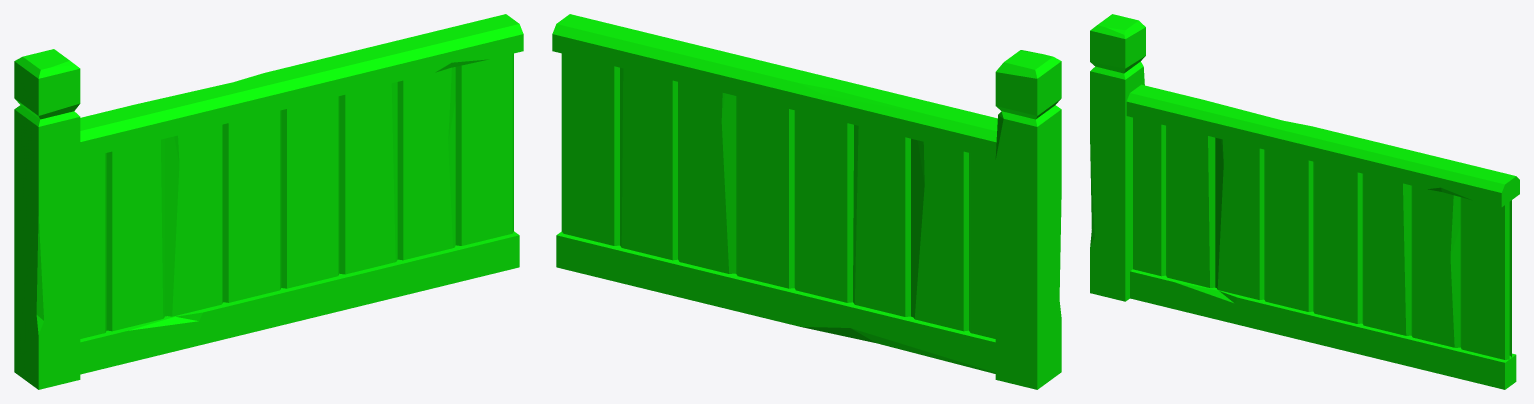
File: SM_Railing_Wood_Post_A_2m.fbx
3 renders of one model, left to right at view 1: azimuth 30°, elevation 25°; view 2: azimuth 150°, elevation 25°; view 3: azimuth 330°, elevation 25°, orthographic. The views are drawn at different scales.
Visible parts, largest first — view 1: railing-wood-post-a-2m; view 2: railing-wood-post-a-2m; view 3: railing-wood-post-a-2m.
Boxes of the visible parts, left/top/right/bottom form: railing-wood-post-a-2m: left=14, top=14, right=523, bottom=389; railing-wood-post-a-2m: left=552, top=14, right=1061, bottom=389; railing-wood-post-a-2m: left=1090, top=14, right=1519, bottom=389.
Size of the model in its own units: 2.09 by 1.3 by 0.18.
